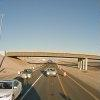Bridge: (8, 41, 88, 65)
